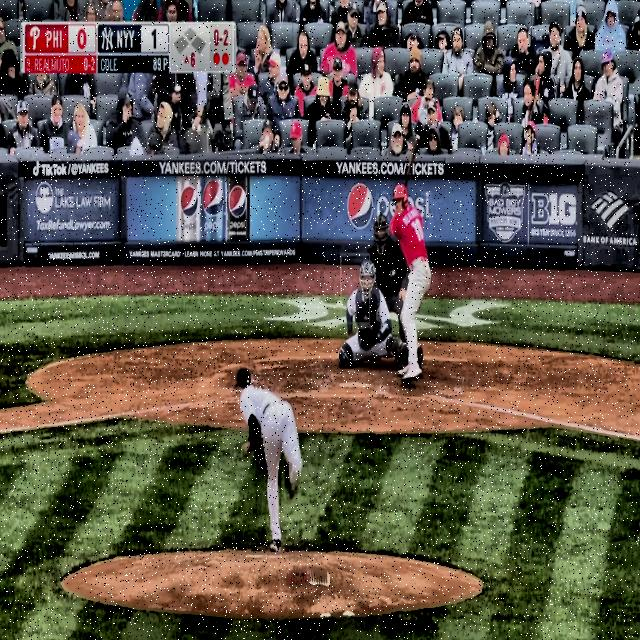baseball: (336, 300, 342, 310)
